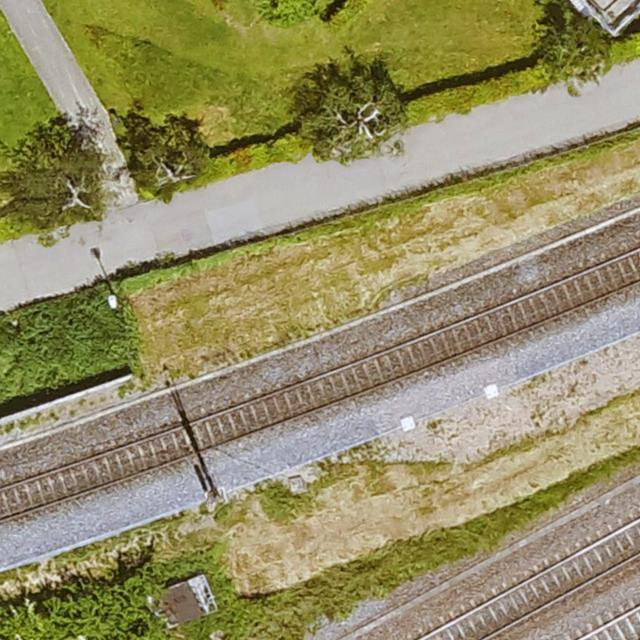tree: (1, 125, 103, 229), (295, 63, 402, 159), (533, 3, 611, 85), (122, 118, 205, 190), (241, 0, 361, 24)
